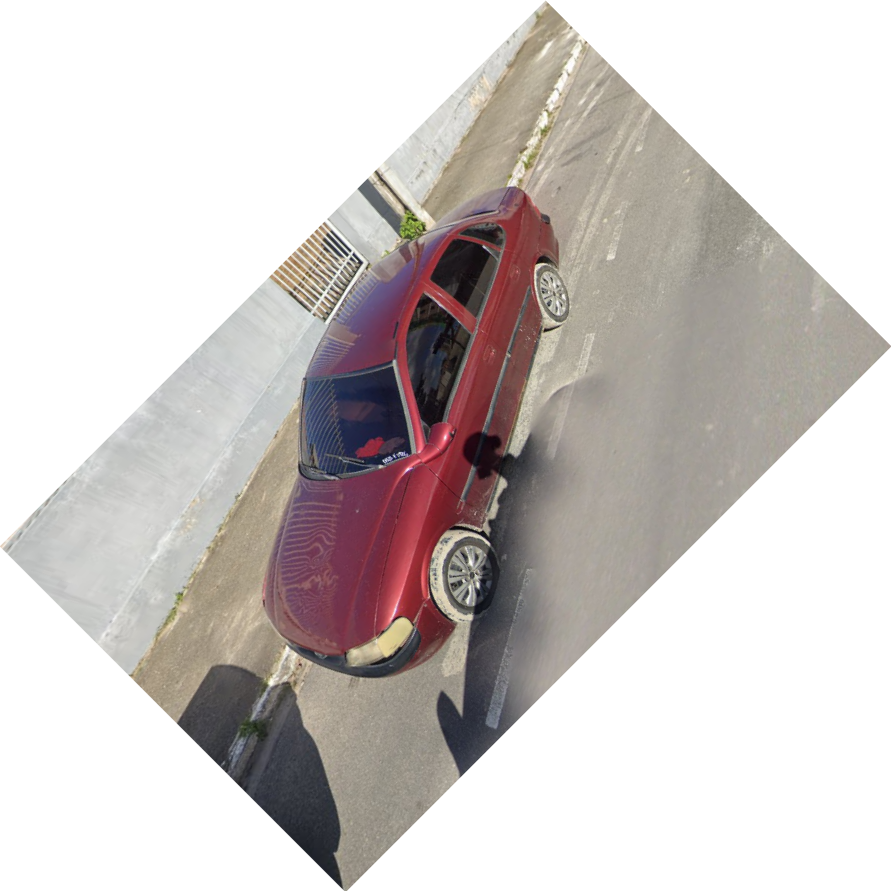car: (255, 183, 575, 694)
